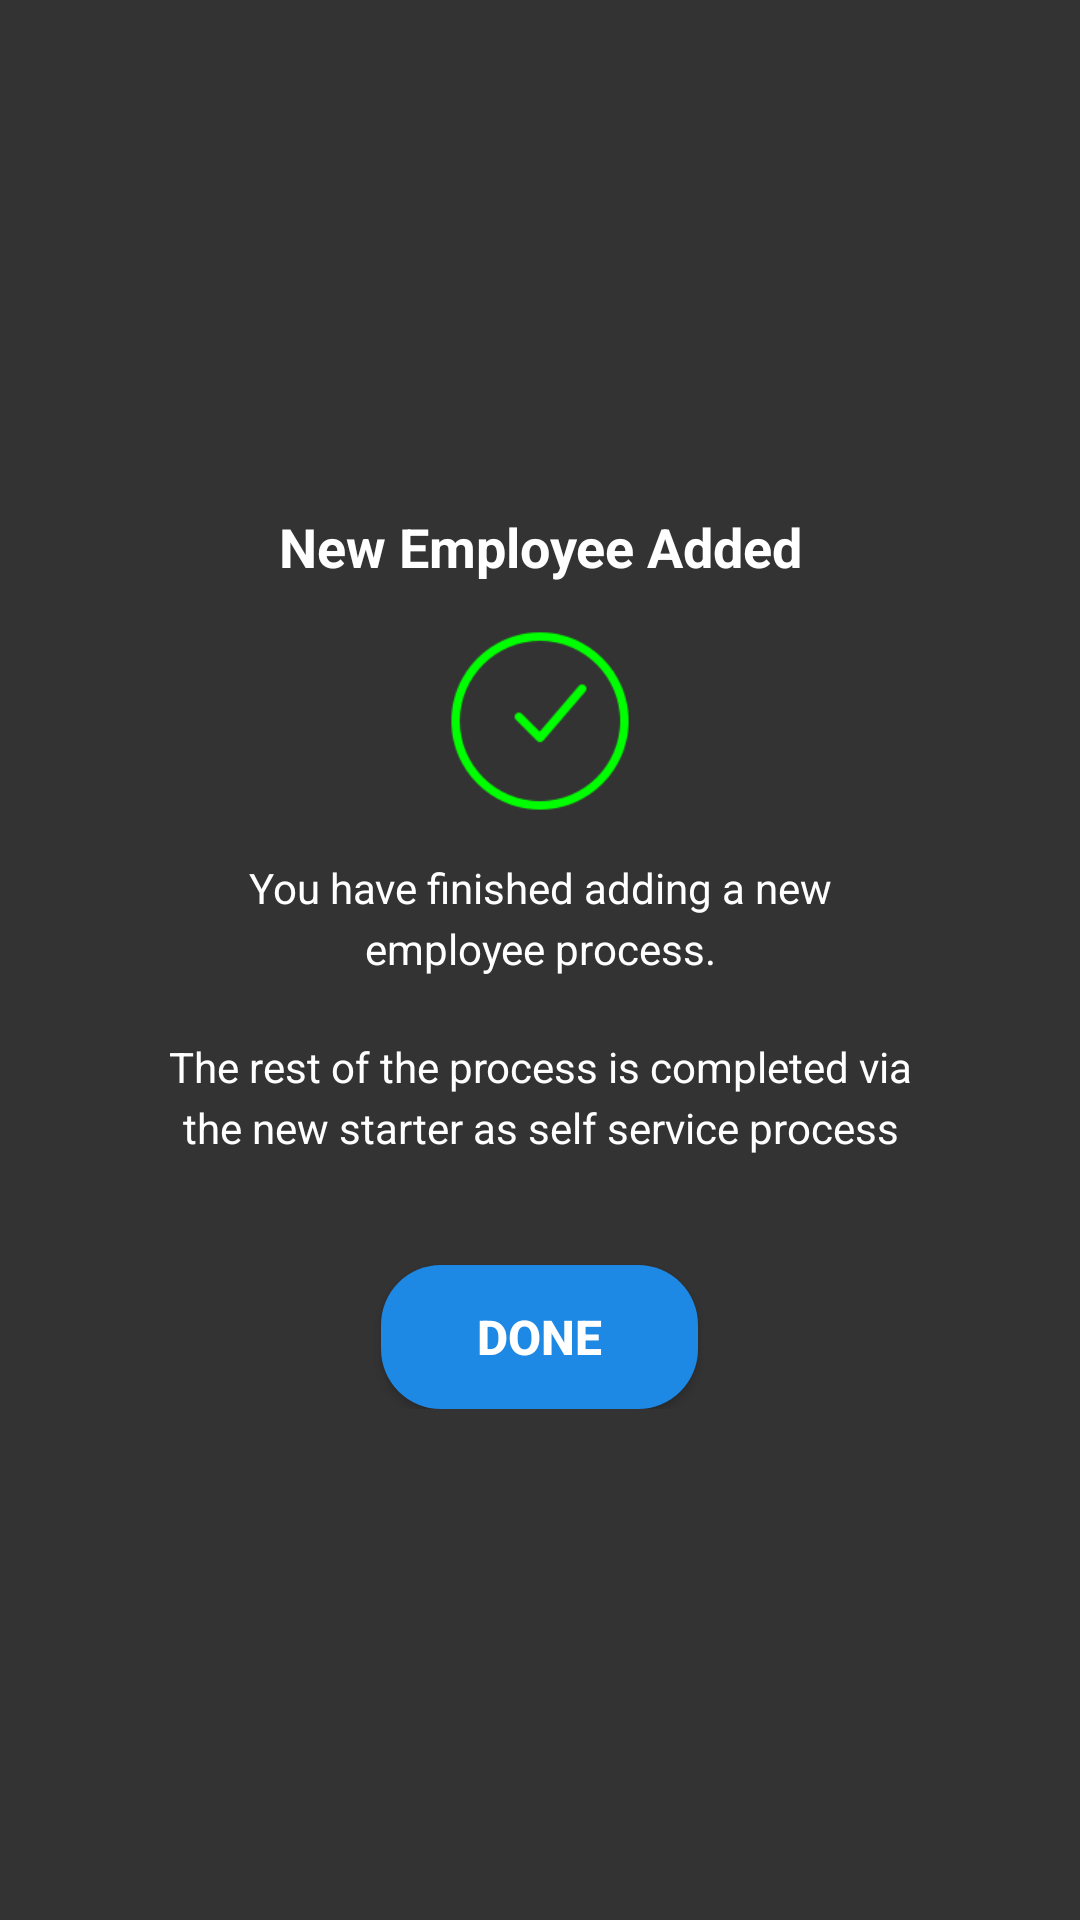

Point at icon controls on the screen. Image size 1080w x 1920h, points as (x=x, y=y).
Tick: (x=540, y=721)
